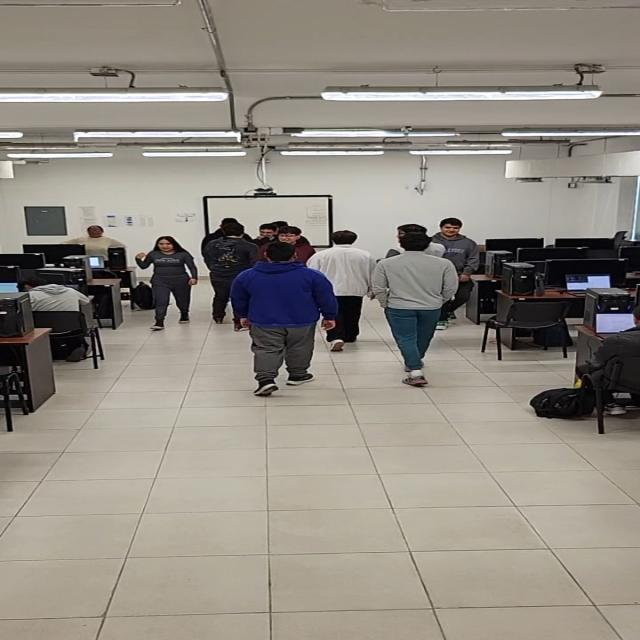Persona: (235, 240, 340, 398), (377, 234, 453, 388), (316, 225, 374, 349), (141, 231, 195, 332), (440, 215, 483, 332), (204, 221, 254, 320)
